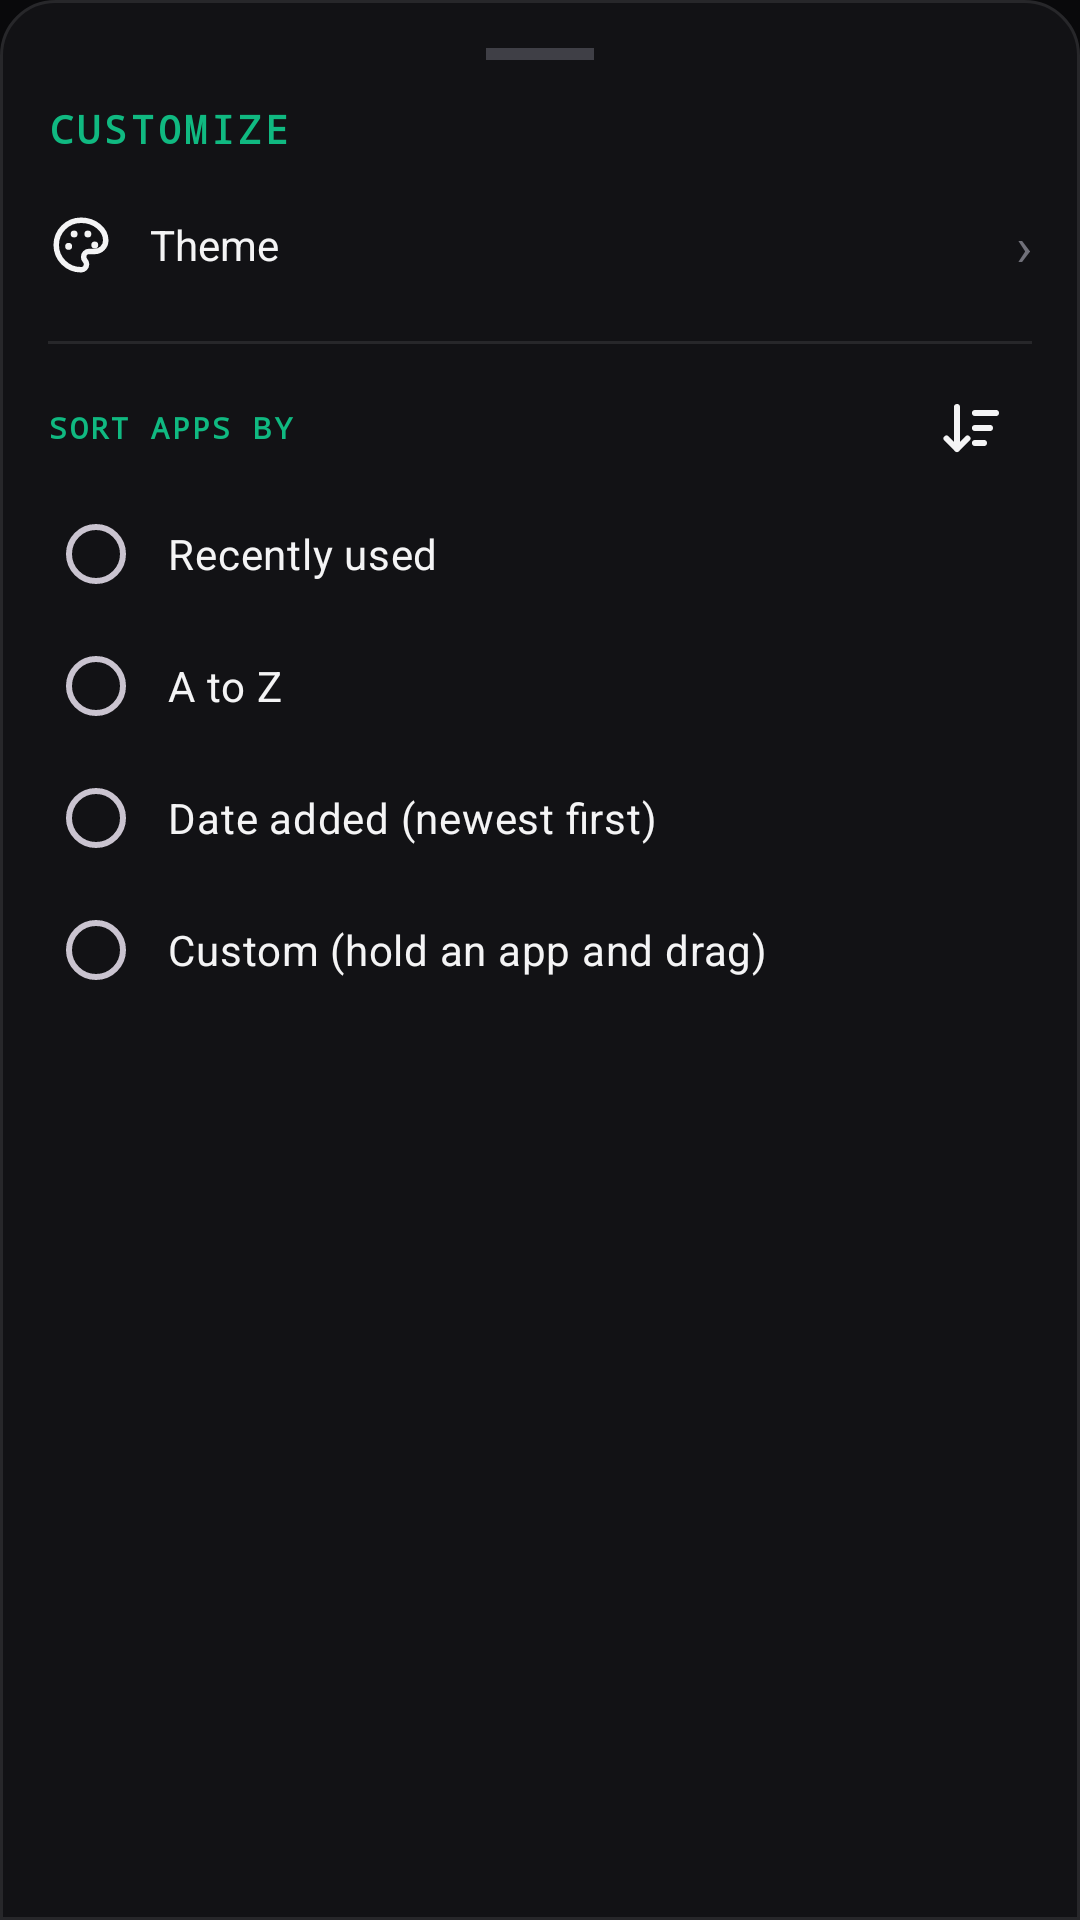

Icons on this 1080×1920 Android screen, each with its box as [left=x1, top=y1, right=x2, bottom=y2]:
palette: [left=53, top=217, right=109, bottom=273]
sort descending: [left=943, top=404, right=999, bottom=452]
